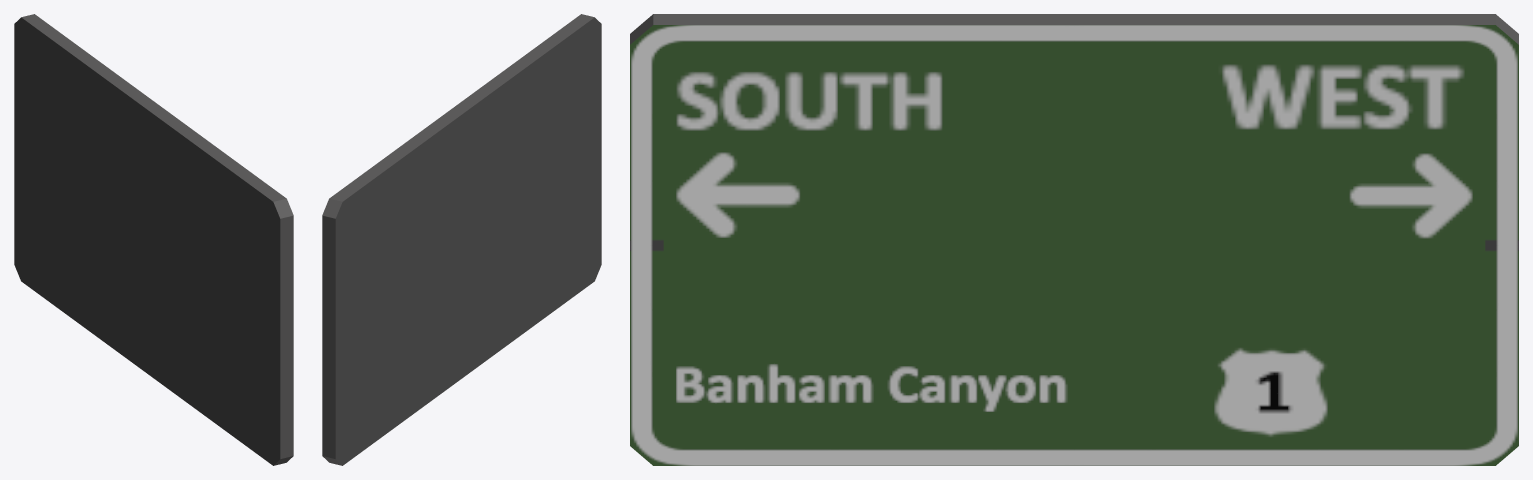
Rendered from Road_Sign_A3.fbx.
The picture shows the model from 3 angles, left to right: view 1: azimuth 30°, elevation 25°; view 2: azimuth 150°, elevation 25°; view 3: azimuth 270°, elevation 25°; orthographic projection. The views are drawn at different scales.
Parts seen in each view (by area): view 1: Road_Sign_A3; view 2: Road_Sign_A3; view 3: Road_Sign_A3.
Boxes of the visible parts, bbox=[...] form: Road_Sign_A3: bbox=[14, 14, 293, 465]; Road_Sign_A3: bbox=[322, 14, 601, 465]; Road_Sign_A3: bbox=[630, 14, 1518, 465].
Bounding box in the file's own units: 6.71 × 125 × 229.
Materials: 1 (1 with a texture image).
